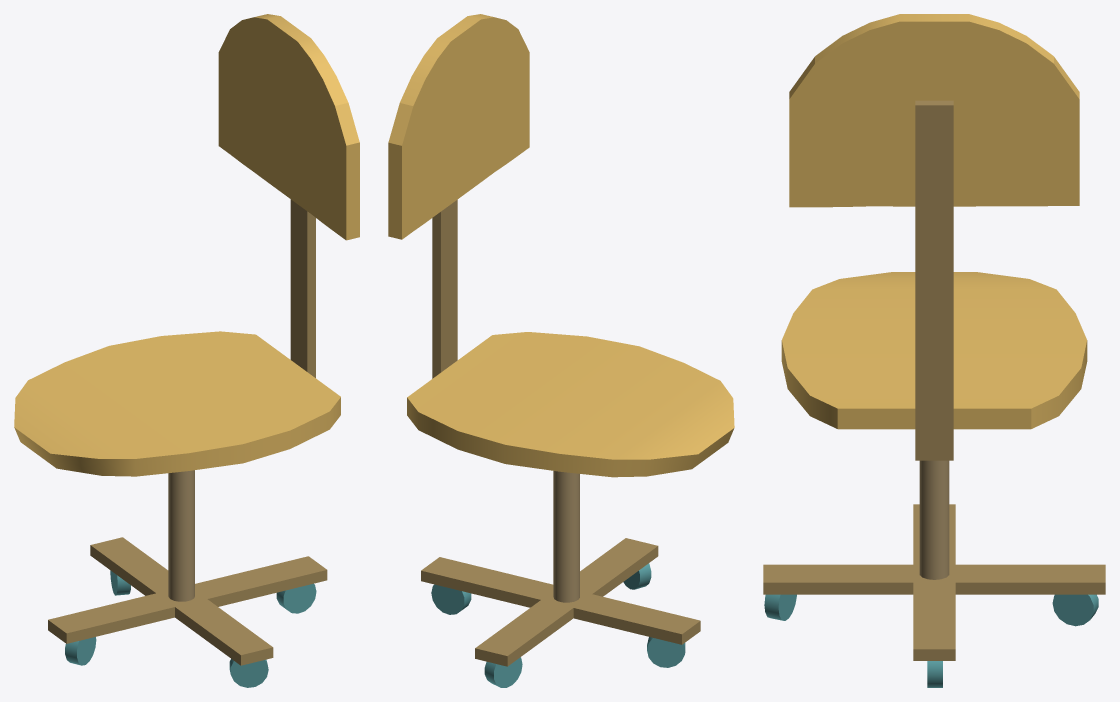
The model's file is Chair.fbx.
3 views of the same model, side by side, from view 1: azimuth 30°, elevation 25°; view 2: azimuth 150°, elevation 25°; view 3: azimuth 270°, elevation 25° (orthographic). The views are drawn at different scales.
Visible parts, largest first — view 1: pCube24; view 2: pCube24; view 3: pCube24.
Part boxes in pixels (x1,y1,x2,y2): pCube24: (14,14,359,687); pCube24: (388,14,734,687); pCube24: (763,14,1105,687).
Bounding box in the file's own units: 0.9654 × 1.89 × 0.8809.
